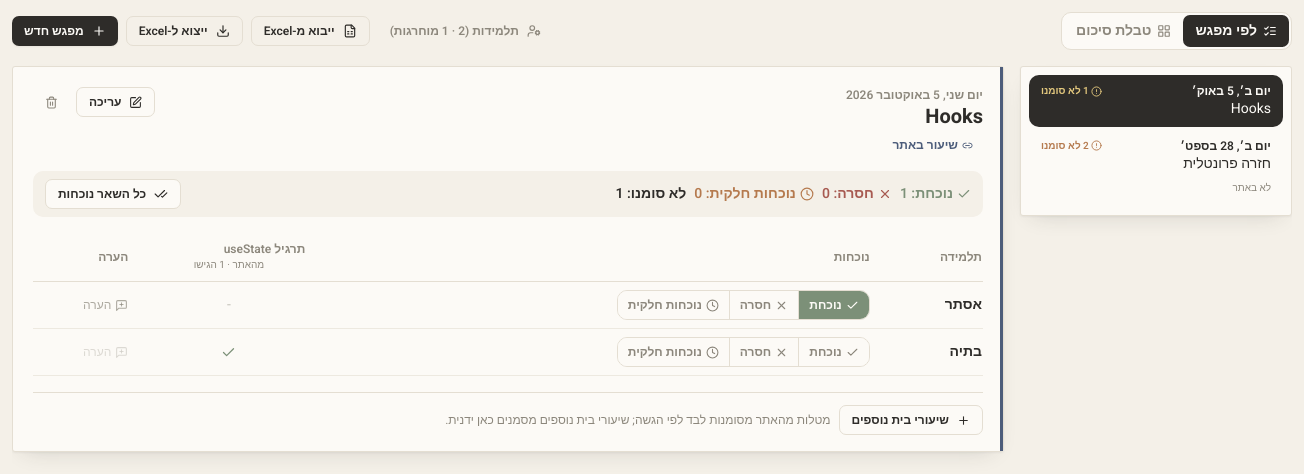
Test: AttendancePanel › shows the whole term in the summary grid with a rate per student
Click the tab "טבלת סיכום". click: point(1124, 31)
box: 1064,15 -> 1184,47
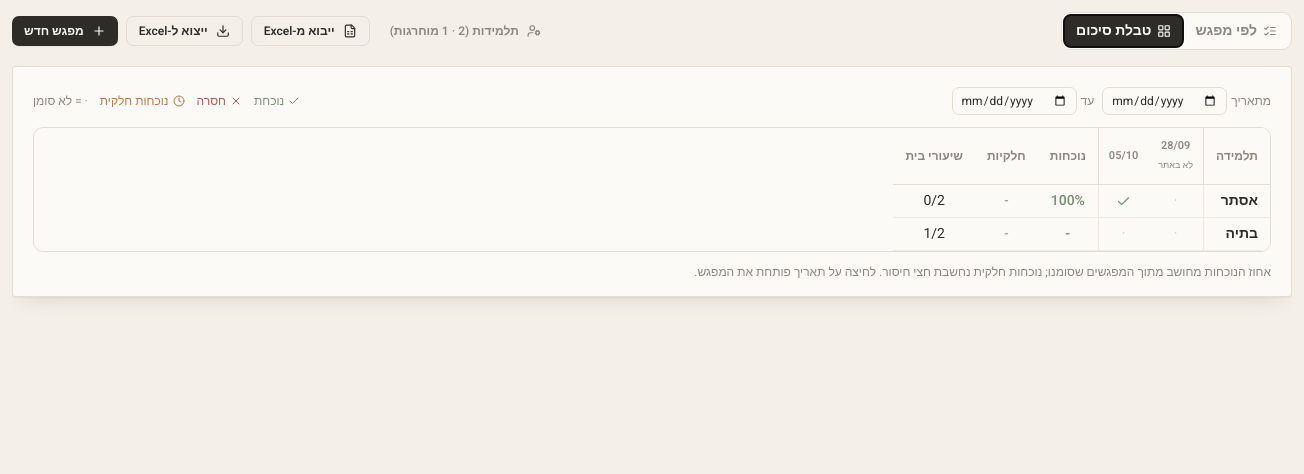
Now the text "100%" is shown, box 1038,185 -> 1099,218
